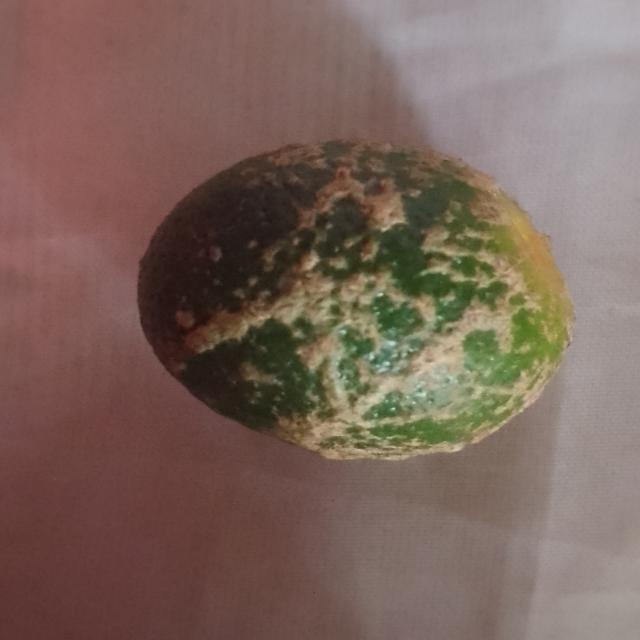scab: (119, 134, 570, 491)
